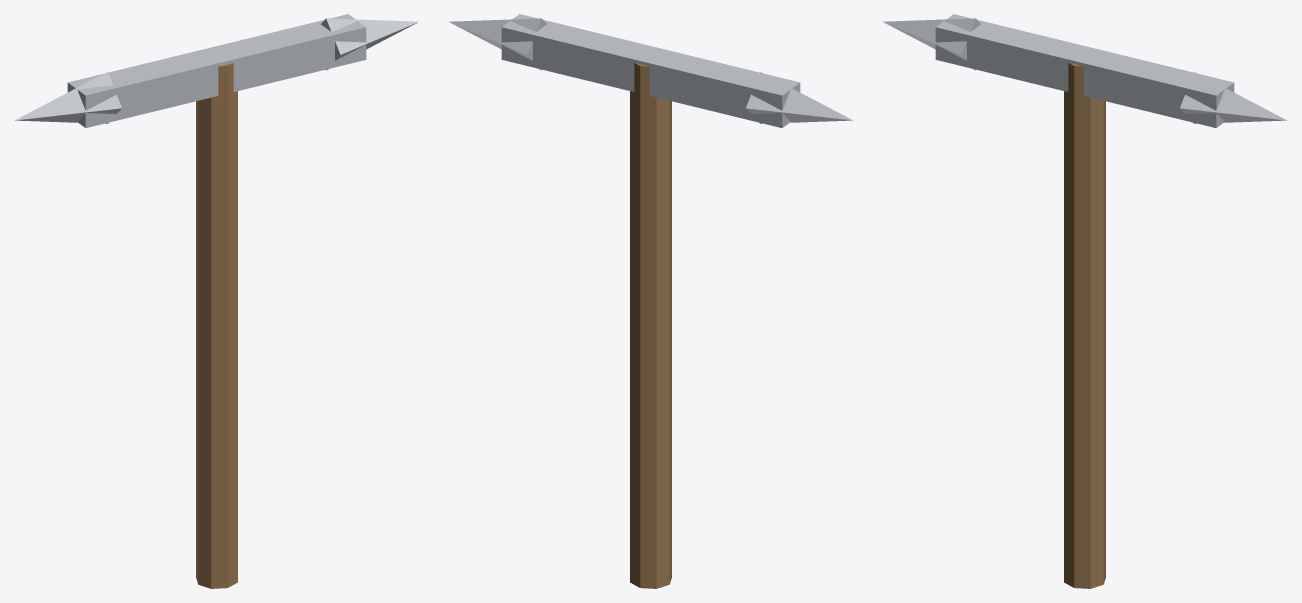
File: pickaxe.glb
3 renders of one model, left to right at view 1: azimuth 30°, elevation 25°; view 2: azimuth 150°, elevation 25°; view 3: azimuth 330°, elevation 25°, orthographic.
Parts seen in each view (by area): view 1: PickaxeHandle, PickaxeHead, Cone.001, Cone; view 2: PickaxeHandle, PickaxeHead, Cone.001, Cone; view 3: PickaxeHandle, PickaxeHead, Cone, Cone.001.
Part boxes in pixels (x1=…): PickaxeHandle: x1=196, y1=63, x2=237, y2=588; PickaxeHead: x1=67, y1=14, x2=366, y2=127; Cone.001: x1=15, y1=72, x2=121, y2=123; Cone: x1=321, y1=18, x2=418, y2=70; PickaxeHandle: x1=630, y1=63, x2=671, y2=588; PickaxeHead: x1=501, y1=14, x2=800, y2=127; Cone.001: x1=746, y1=72, x2=852, y2=123; Cone: x1=449, y1=18, x2=546, y2=70; PickaxeHandle: x1=1064, y1=63, x2=1105, y2=588; PickaxeHead: x1=935, y1=14, x2=1234, y2=127; Cone: x1=1180, y1=72, x2=1286, y2=123; Cone.001: x1=883, y1=18, x2=980, y2=70.
Bounding box in the file's own units: 0.65 × 0.82 × 0.08.
